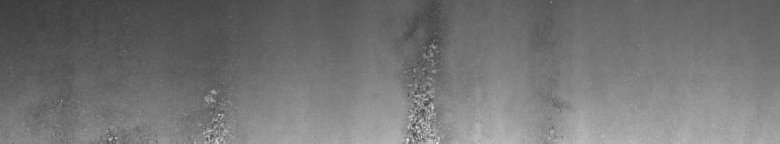hc: (399, 20, 442, 136)
